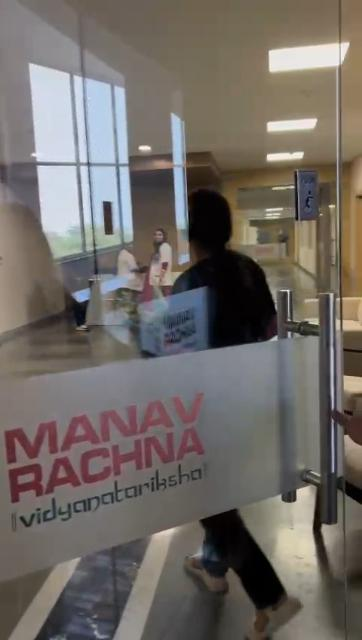moving-obj: (158, 182, 306, 618)
